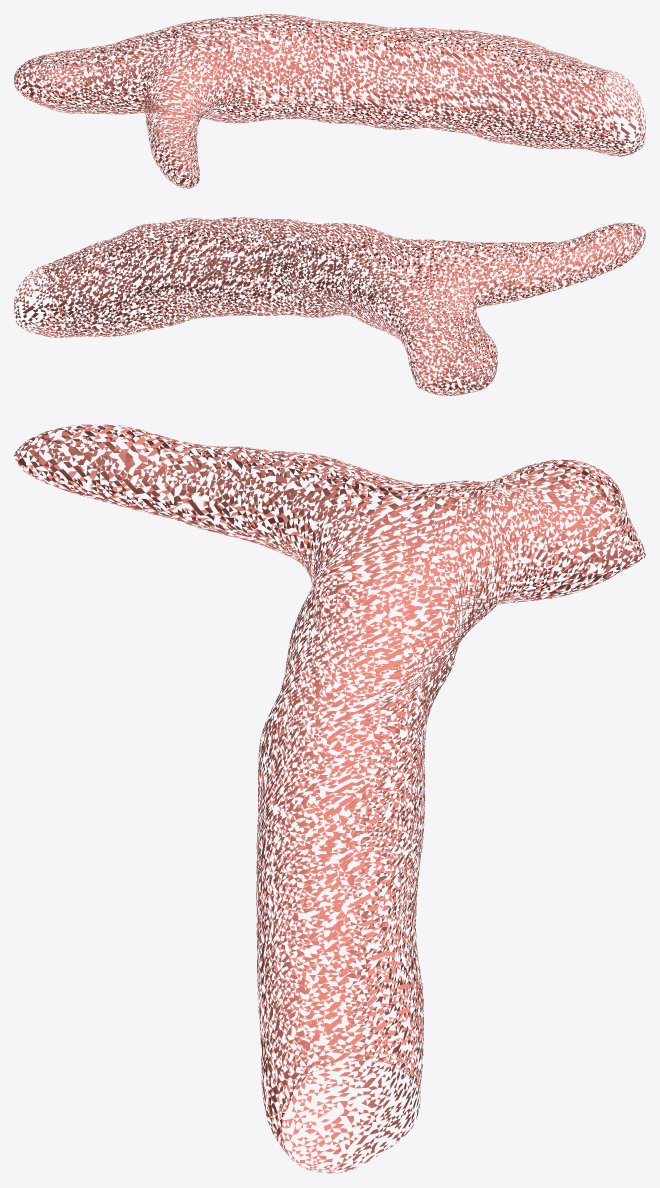
The model's file is diseased.glb.
The picture shows the model from 3 angles, top to bottom: view 1: azimuth 30°, elevation 25°; view 2: azimuth 150°, elevation 25°; view 3: azimuth 270°, elevation 25°; orthographic projection. The views are drawn at different scales.
Size of the model in its own units: 112 by 39.7 by 66.39.
